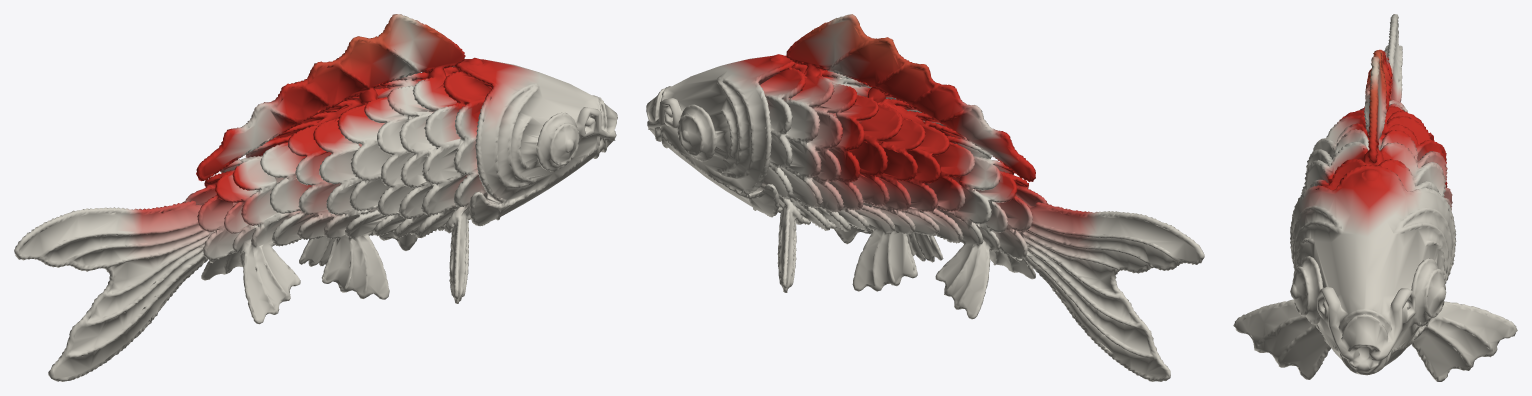
The model's file is ornamental-kohaku.glb.
3 views of the same model, side by side, from view 1: azimuth 30°, elevation 25°; view 2: azimuth 150°, elevation 25°; view 3: azimuth 270°, elevation 25° (orthographic). The views are drawn at different scales.
Visible parts, largest first — view 1: Ornamental koi / kohaku; view 2: Ornamental koi / kohaku; view 3: Ornamental koi / kohaku.
Part boxes in pixels (x1,y1,x2,y2): Ornamental koi / kohaku: (14, 14, 617, 381); Ornamental koi / kohaku: (646, 14, 1204, 381); Ornamental koi / kohaku: (1233, 14, 1517, 381).
Bounding box in the file's own units: 2.85 × 1.36 × 1.05.
